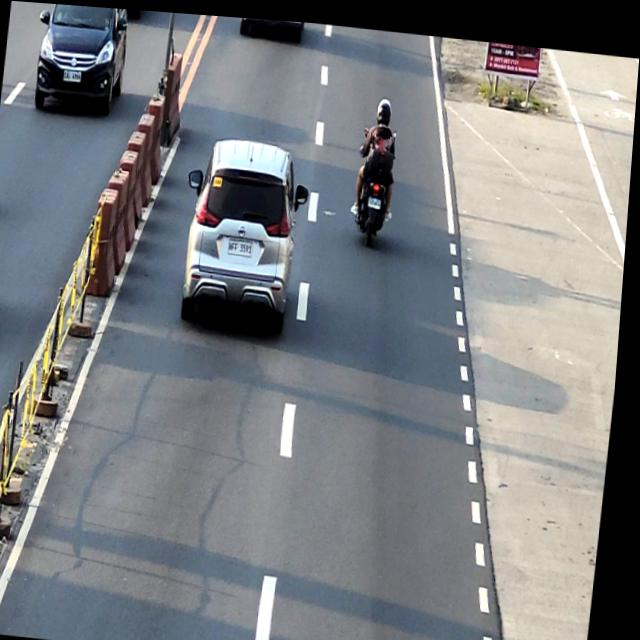Car: (177, 130, 316, 333), (31, 2, 131, 116)
License-Plate: (230, 234, 255, 253), (64, 68, 82, 81), (370, 191, 383, 202)
Motorcycle: (354, 119, 398, 242)
